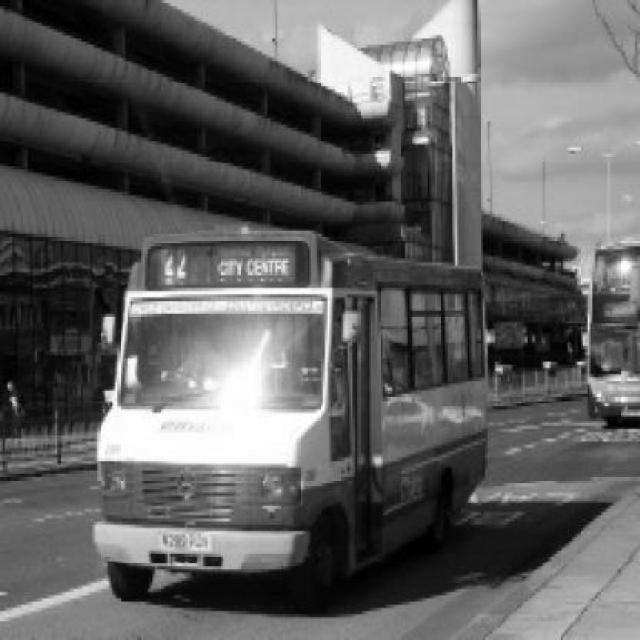Bus- Small: (93, 224, 490, 616)
